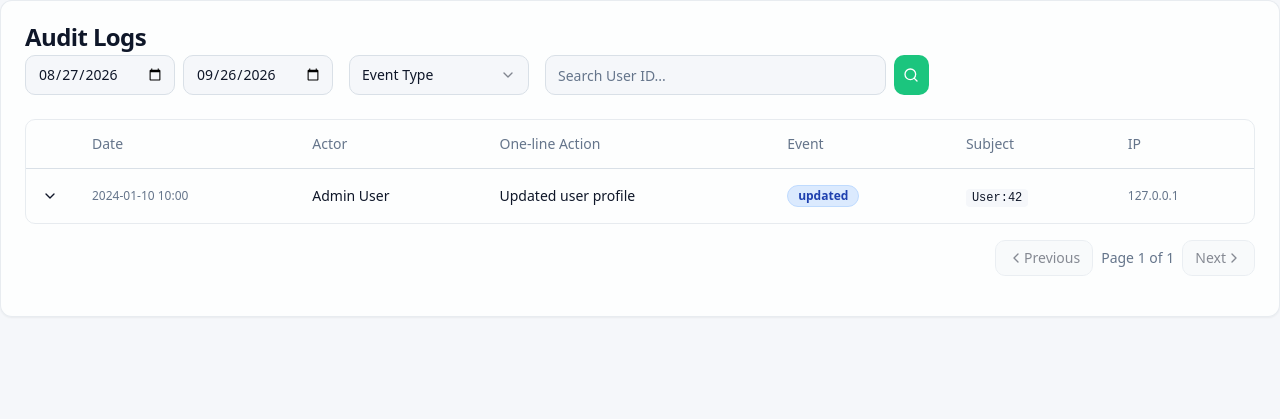
Test case: AuditLogsTable › fetches audit logs with date range and renders diff on expand
The width and height of the screenshot is (1280, 419).
Click the text "Updated user profile" at coordinates (627, 195), box [484,168,771,222]
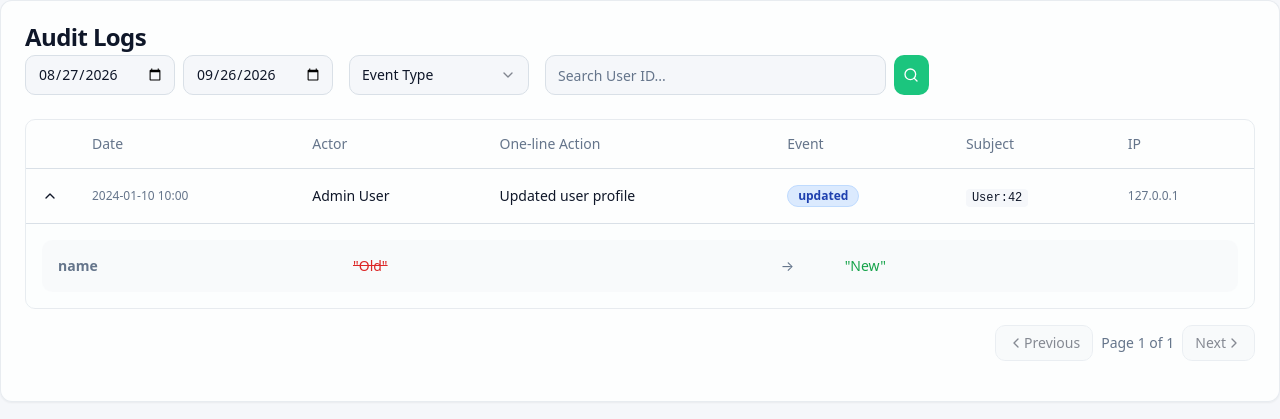
Expected: the text "\"Old\"" is shown, [353,256,388,274]
Expected: the text "\"New\"" is shown, [845,256,886,274]
